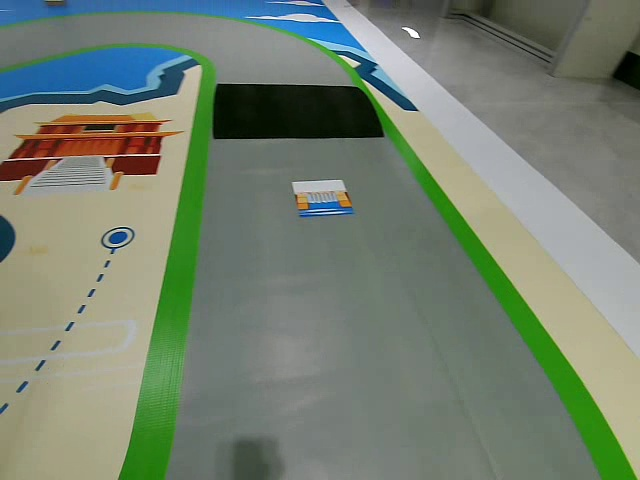tengJiaoQiFeng: (294, 180, 351, 219)
